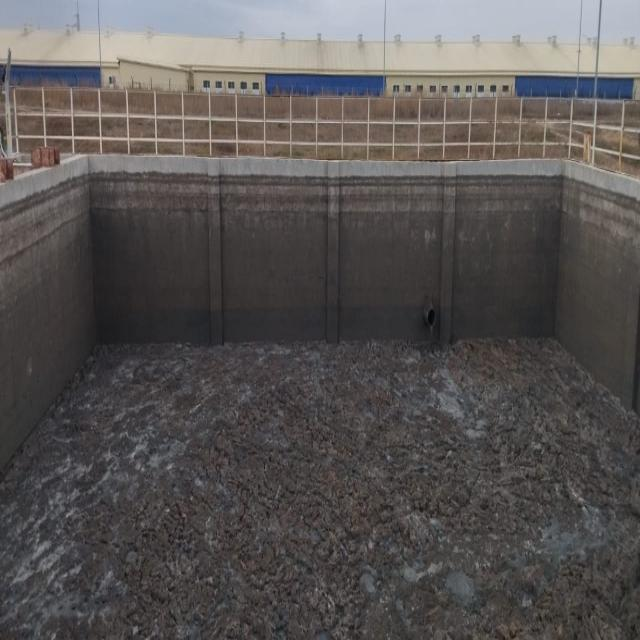fence: (10, 87, 640, 181)
liquid: (0, 337, 640, 640)
